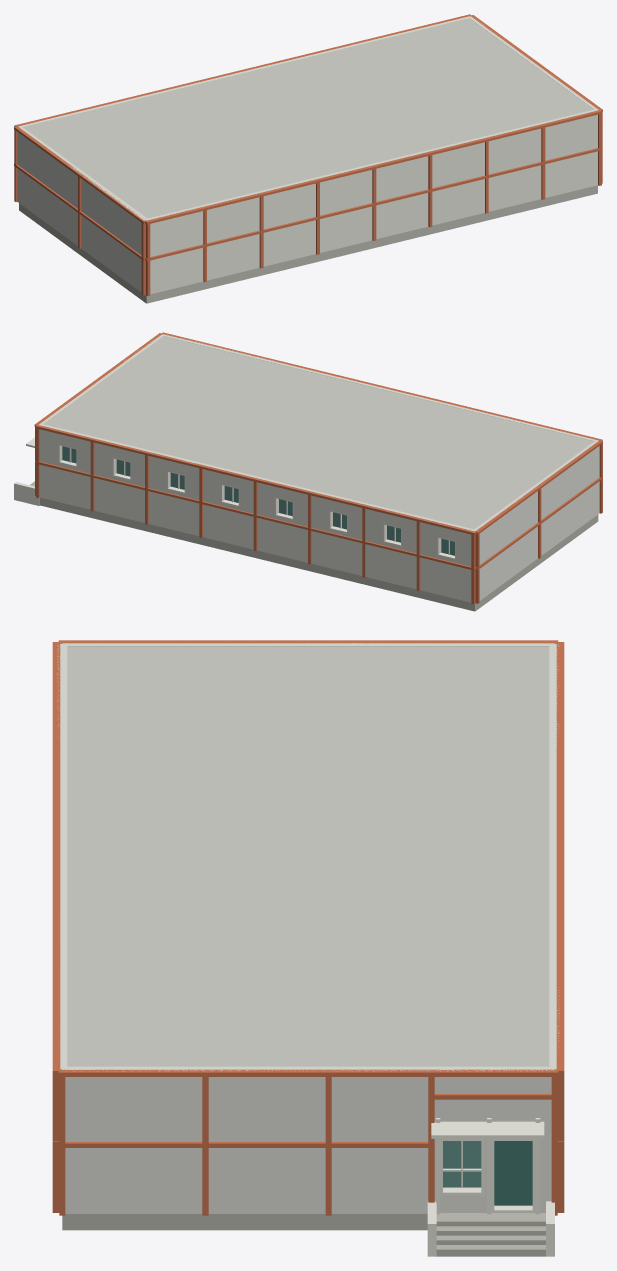
The picture shows the model from 3 angles, top to bottom: view 1: azimuth 30°, elevation 25°; view 2: azimuth 150°, elevation 25°; view 3: azimuth 270°, elevation 25°; orthographic projection. The views are drawn at different scales.
Parts seen in each view (by area): view 1: N7 flat light roof, N7 west opaque elevation, N7 north end, N7 orange longitudinal beam, N7 ground slab, N7 orange side upright, N7 orange end roof edge, N7 east long elevation wall, N7 orange end upright, N7 orange end mid beam, N7 entry elevation wall; view 2: N7 flat light roof, N7 east long elevation wall, N7 north end, N7 orange longitudinal beam, N7 ground slab, N7 orange side upright, N7 east long elevation recessed glass, N7 orange end roof edge, N7 west opaque elevation, N7 east long elevation reveal sill head, N7 orange end upright, N7 east long elevation reveal jamb (+3 smaller); view 3: N7 flat light roof, N7 entry elevation wall, N7 orange longitudinal beam, N7 ground slab, N7 orange end roof edge, N7 orange end upright, N7 east long elevation wall, N7 west opaque elevation, N7 entrance door leaves, N7 orange end mid beam, N7 orange side upright, N7 entrance white awning (+9 smaller).
Part boxes in pixels (box(x1,y1,x2,y2)): N7 flat light roof: box(23, 18, 598, 220); N7 west opaque elevation: box(145, 109, 597, 294); N7 north end: box(17, 127, 148, 292); N7 orange longitudinal beam: box(14, 14, 602, 261); N7 ground slab: box(19, 185, 597, 303); N7 orange side upright: box(146, 113, 601, 295); N7 orange end roof edge: box(14, 15, 602, 223); N7 east long elevation wall: box(18, 16, 471, 127); N7 orange end upright: box(14, 113, 602, 295); N7 orange end mid beam: box(14, 164, 145, 260); N7 entry elevation wall: box(468, 16, 598, 109); N7 flat light roof: box(44, 336, 598, 529); N7 east long elevation wall: box(39, 424, 475, 602); N7 north end: box(473, 440, 599, 600); N7 orange longitudinal beam: box(35, 332, 602, 570); N7 ground slab: box(39, 497, 598, 611); N7 orange side upright: box(36, 427, 475, 604); N7 east long elevation recessed glass: box(62, 446, 454, 555); N7 orange end roof edge: box(34, 333, 602, 534); N7 west opaque elevation: box(162, 334, 598, 441); N7 east long elevation reveal sill head: box(58, 444, 456, 559); N7 orange end upright: box(35, 427, 602, 603); N7 east long elevation reveal jamb: box(58, 445, 456, 559); N7 flat light roof: box(60, 643, 556, 1069); N7 entry elevation wall: box(62, 1066, 554, 1213); N7 orange longitudinal beam: box(52, 642, 564, 1145); N7 ground slab: box(62, 1187, 481, 1230); N7 orange end roof edge: box(58, 640, 558, 1076); N7 orange end upright: box(59, 1074, 557, 1215); N7 east long elevation wall: box(549, 644, 559, 1069); N7 west opaque elevation: box(57, 644, 67, 1069); N7 entrance door leaves: box(494, 1141, 532, 1205); N7 orange end mid beam: box(63, 1142, 430, 1147); N7 orange side upright: box(52, 1075, 564, 1212); N7 entrance white awning: box(431, 1121, 544, 1138).
Size of the model in its own units: 31.36 by 5.25 by 14.94.
